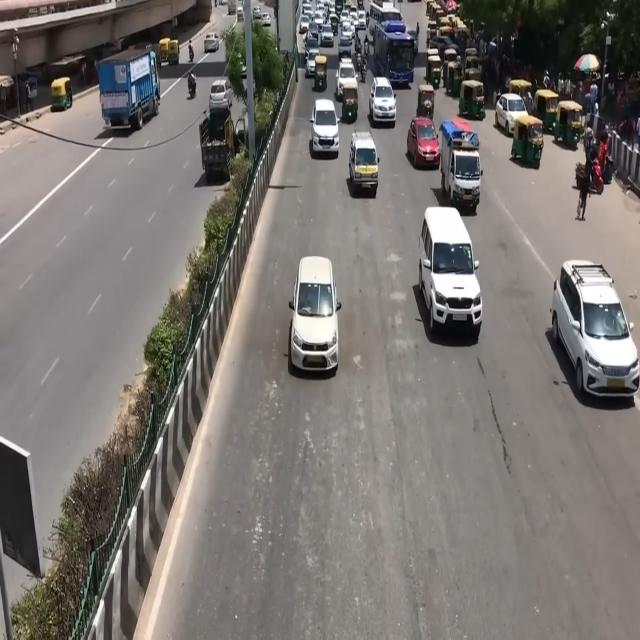auto: (509, 109, 545, 168), (348, 130, 379, 196), (553, 100, 584, 150), (532, 89, 560, 134), (459, 78, 486, 122), (340, 78, 359, 122), (443, 58, 463, 96), (416, 82, 435, 120), (51, 77, 72, 111), (464, 53, 484, 85), (159, 38, 180, 66), (313, 54, 328, 92)
bike-auto: (188, 71, 196, 98), (354, 24, 362, 50), (362, 58, 368, 86), (364, 38, 369, 60), (188, 44, 194, 62)
